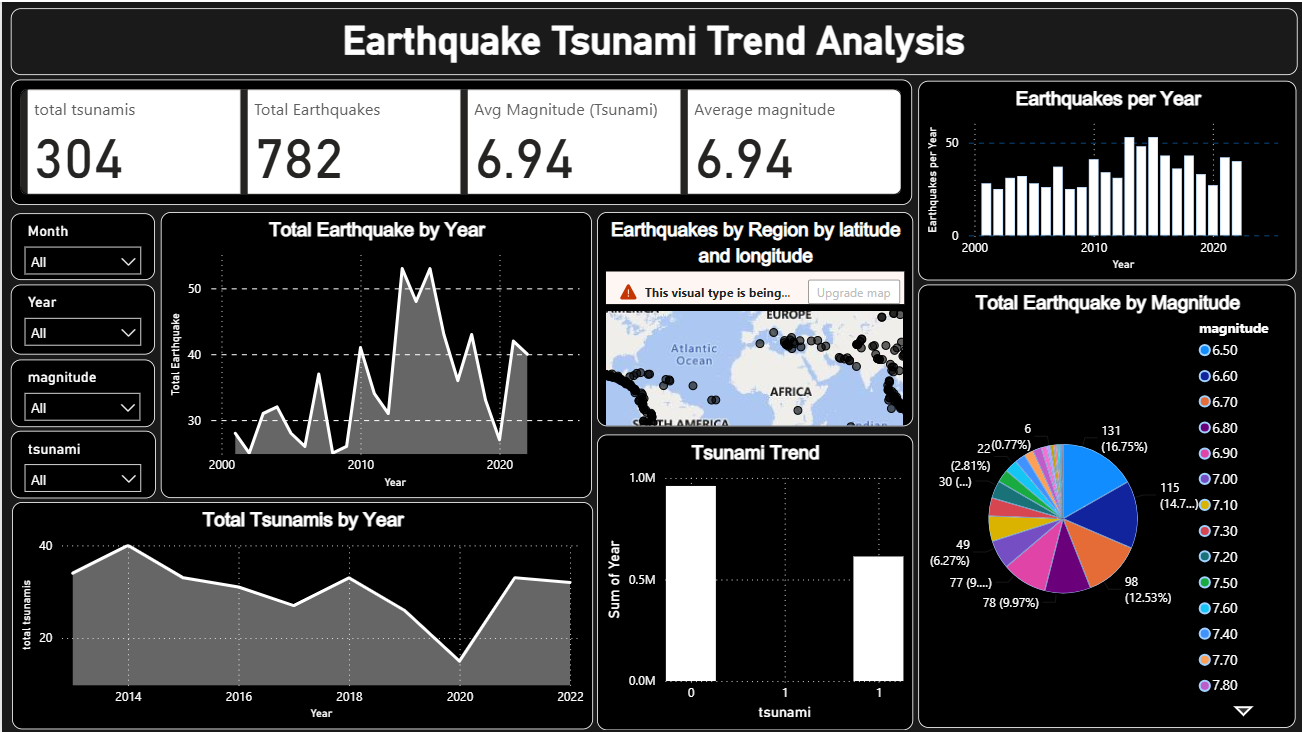

Layout of this report page (visuals, bound fields, positions):
{"tool":"powerbi","page":{"name":"Trend Analysis","canvas":[1280,720],"ordinal":0},"visuals":[{"type":"clusteredColumnChart","title":"Earthquakes per Year","fields":{"Y":["earthquake_data_tsunami.Earthquakes per Year"],"Category":["earthquake_data_tsunami.Year"]},"box":[900,77.1,371.4,195.7],"z":0},{"type":"textbox","box":[8.6,5.7,1262.9,65.7],"z":1000},{"type":"pieChart","title":"Total Earthquake by Magnitude","fields":{"Category":["earthquake_data_tsunami.magnitude"],"Y":["earthquake_data_tsunami.Total Earthquake"]},"box":[900,277.7,370.8,435.4],"z":2000},{"type":"cardVisual","fields":{"Data":["earthquake_data_tsunami.total tsunamis","earthquake_data_tsunami.Total Earthquakes","earthquake_data_tsunami.Avg Magnitude (Tsunami)","earthquake_data_tsunami.Average magnitude"]},"box":[8.6,76.4,885,123.6],"z":3000},{"type":"map","fields":{"Y":["earthquake_data_tsunami.latitude"],"X":["earthquake_data_tsunami.longitude"],"Size":["earthquake_data_tsunami.Earthquakes by Region"]},"box":[584,206,310,210],"z":4000},{"type":"slicer","fields":{"Values":["earthquake_data_tsunami.Month"]},"box":[8.5,206.9,141.5,65.4],"z":5000},{"type":"slicer","fields":{"Values":["earthquake_data_tsunami.Year"]},"box":[8.5,277.7,141.5,68.5],"z":6000},{"type":"slicer","fields":{"Values":["earthquake_data_tsunami.magnitude"]},"box":[8.8,350.6,141.2,66.2],"z":7000},{"type":"slicer","fields":{"Values":["earthquake_data_tsunami.tsunami"]},"box":[8,420.5,142,66.5],"z":8000},{"type":"stackedAreaChart","fields":{"Category":["earthquake_data_tsunami.Year"],"Y":["earthquake_data_tsunami.Total Earthquake"]},"box":[155.3,206.5,422.9,280.6],"z":9000},{"type":"areaChart","title":"Total Tsunamis by Year","fields":{"Category":["earthquake_data_tsunami.Year"],"Y":["earthquake_data_tsunami.total tsunamis"]},"box":[9.4,491.2,570,222.9],"z":10000},{"type":"columnChart","title":"Tsunami Trend","fields":{"Category":["earthquake_data_tsunami.tsunami"],"Y":["Sum(earthquake_data_tsunami.Year)"]},"box":[584,424,310,290],"z":11000}]}

Visuals, with their boxes in screenshot pixels (x1, y1, x2, y2), scaled from the page's 1280x720 canvas onto the 1302x732 screenshot:
"Earthquakes per Year" clusteredColumnChart: BBox(915, 78, 1293, 277)
textbox: BBox(9, 6, 1293, 73)
"Total Earthquake by Magnitude" pieChart: BBox(915, 282, 1293, 725)
cardVisual - earthquake_data_tsunami.total tsunamis x earthquake_data_tsunami.Total Earthquakes: BBox(9, 78, 909, 203)
map - earthquake_data_tsunami.latitude x earthquake_data_tsunami.longitude: BBox(594, 209, 909, 423)
slicer - earthquake_data_tsunami.Month: BBox(9, 210, 153, 277)
slicer - earthquake_data_tsunami.Year: BBox(9, 282, 153, 352)
slicer - earthquake_data_tsunami.magnitude: BBox(9, 356, 153, 424)
slicer - earthquake_data_tsunami.tsunami: BBox(8, 428, 153, 495)
stackedAreaChart - earthquake_data_tsunami.Year x earthquake_data_tsunami.Total Earthquake: BBox(158, 210, 588, 495)
"Total Tsunamis by Year" areaChart: BBox(10, 499, 589, 726)
"Tsunami Trend" columnChart: BBox(594, 431, 909, 726)
